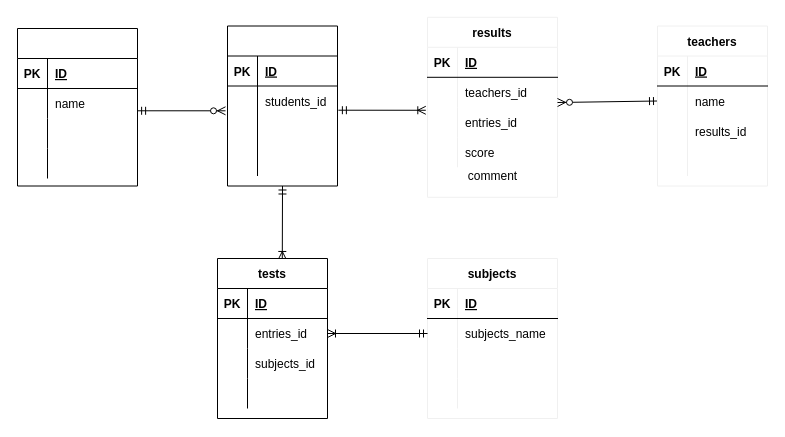
This 785x437 diagram has some shape labels left out. The shapes that lost their labels are listed below. From the top down, each one's box as (x1, y1, x2, y2) in pixels, then its label:
(16, 28, 138, 186): students
(226, 25, 338, 186): entries
